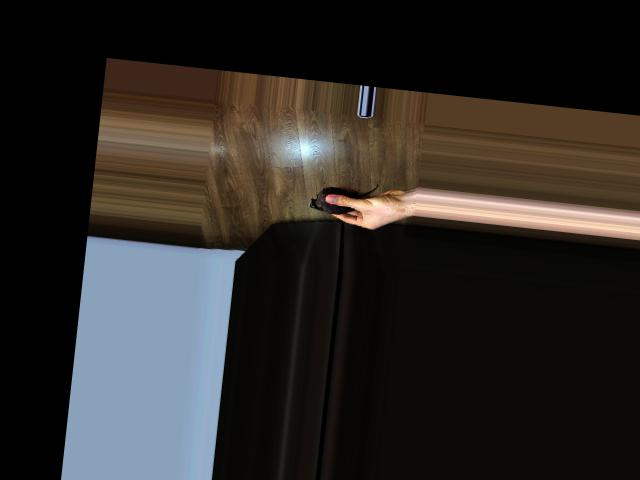beet: (308, 175, 377, 218)
